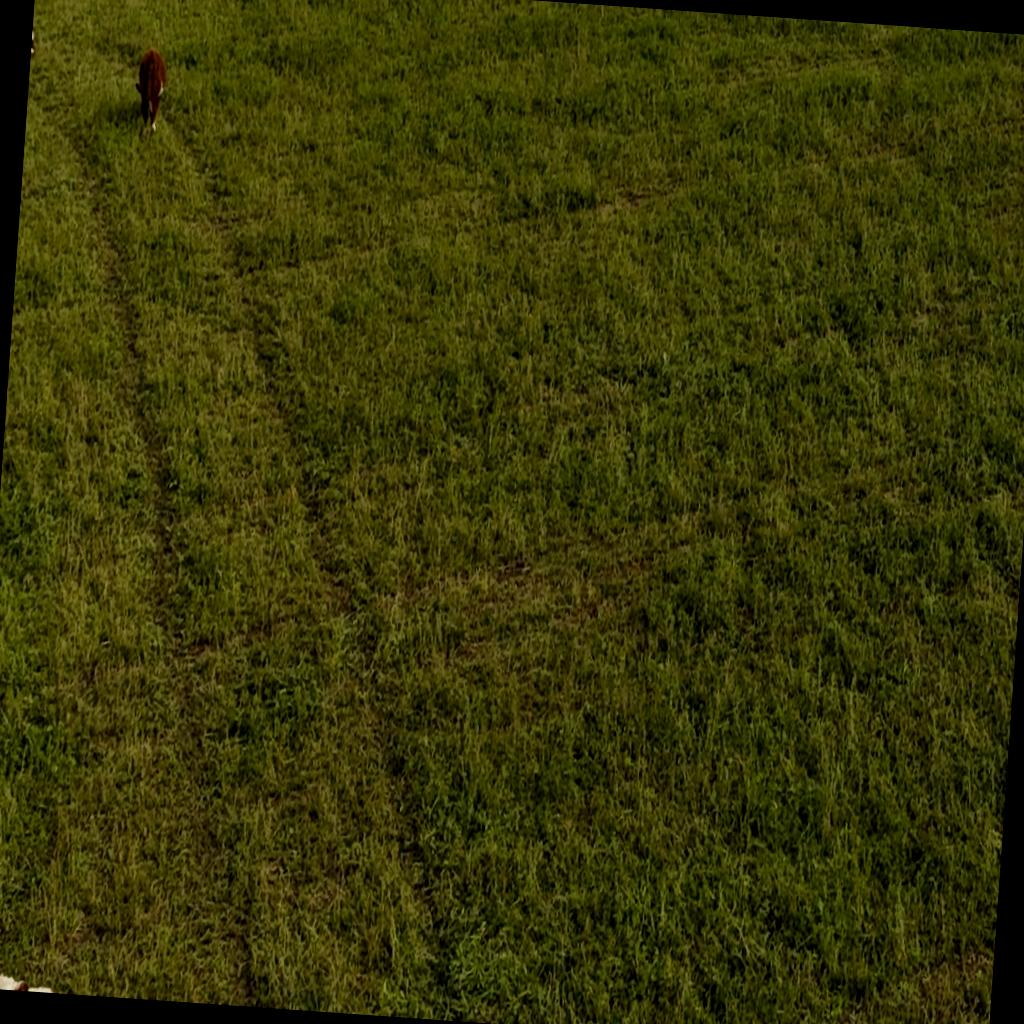cow: (131, 44, 169, 138)
